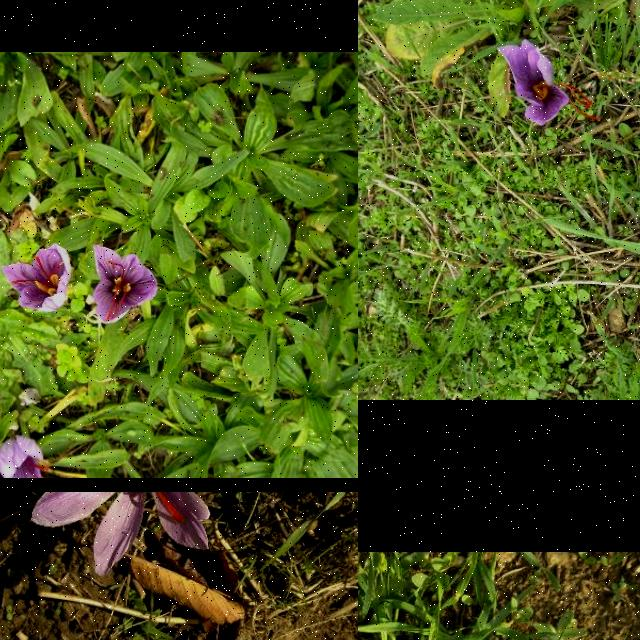flower: (31, 492, 209, 577), (497, 38, 601, 125), (92, 246, 158, 324), (2, 245, 72, 312), (0, 436, 55, 478)
